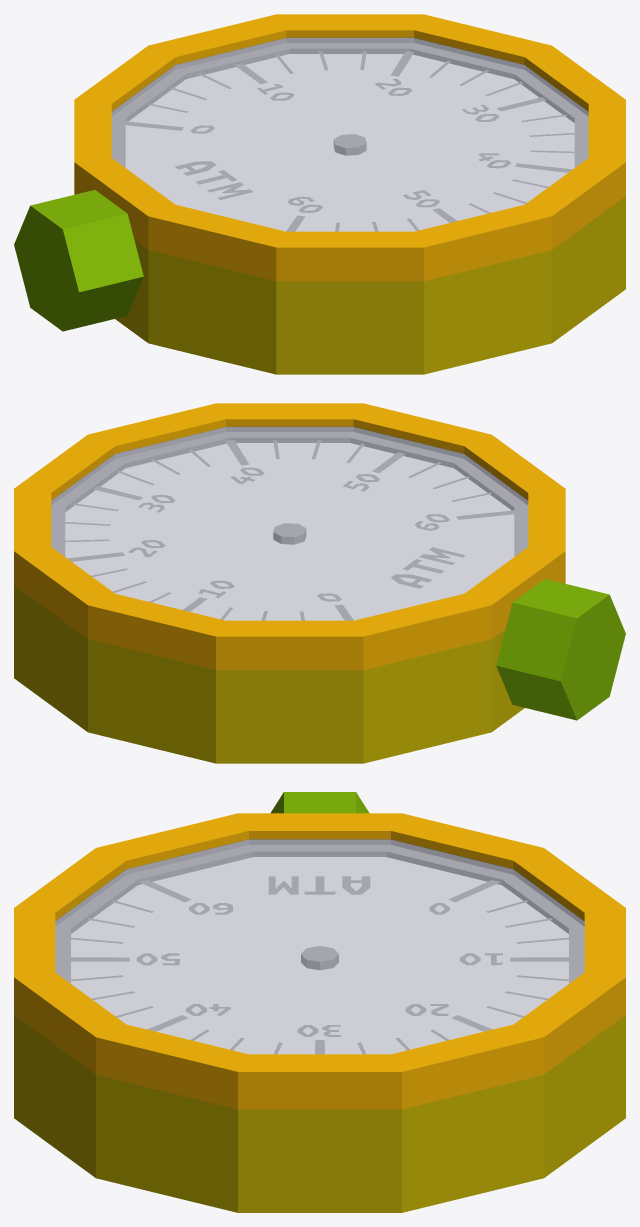
Rendered from fpe_pressure_gauge.dae.
3 views of the same model, one above another, from view 1: azimuth 30°, elevation 25°; view 2: azimuth 150°, elevation 25°; view 3: azimuth 270°, elevation 25° (orthographic). The views are drawn at different scales.
Visible parts, largest first — view 1: pressure_gauge; view 2: pressure_gauge; view 3: pressure_gauge.
Part boxes in pixels (box(x1,y1,x2,y2)): pressure_gauge: box(14, 14, 625, 374); pressure_gauge: box(14, 403, 625, 763); pressure_gauge: box(14, 792, 625, 1212).
Size of the model in its own units: 0.2233 by 0.1967 by 0.05.
